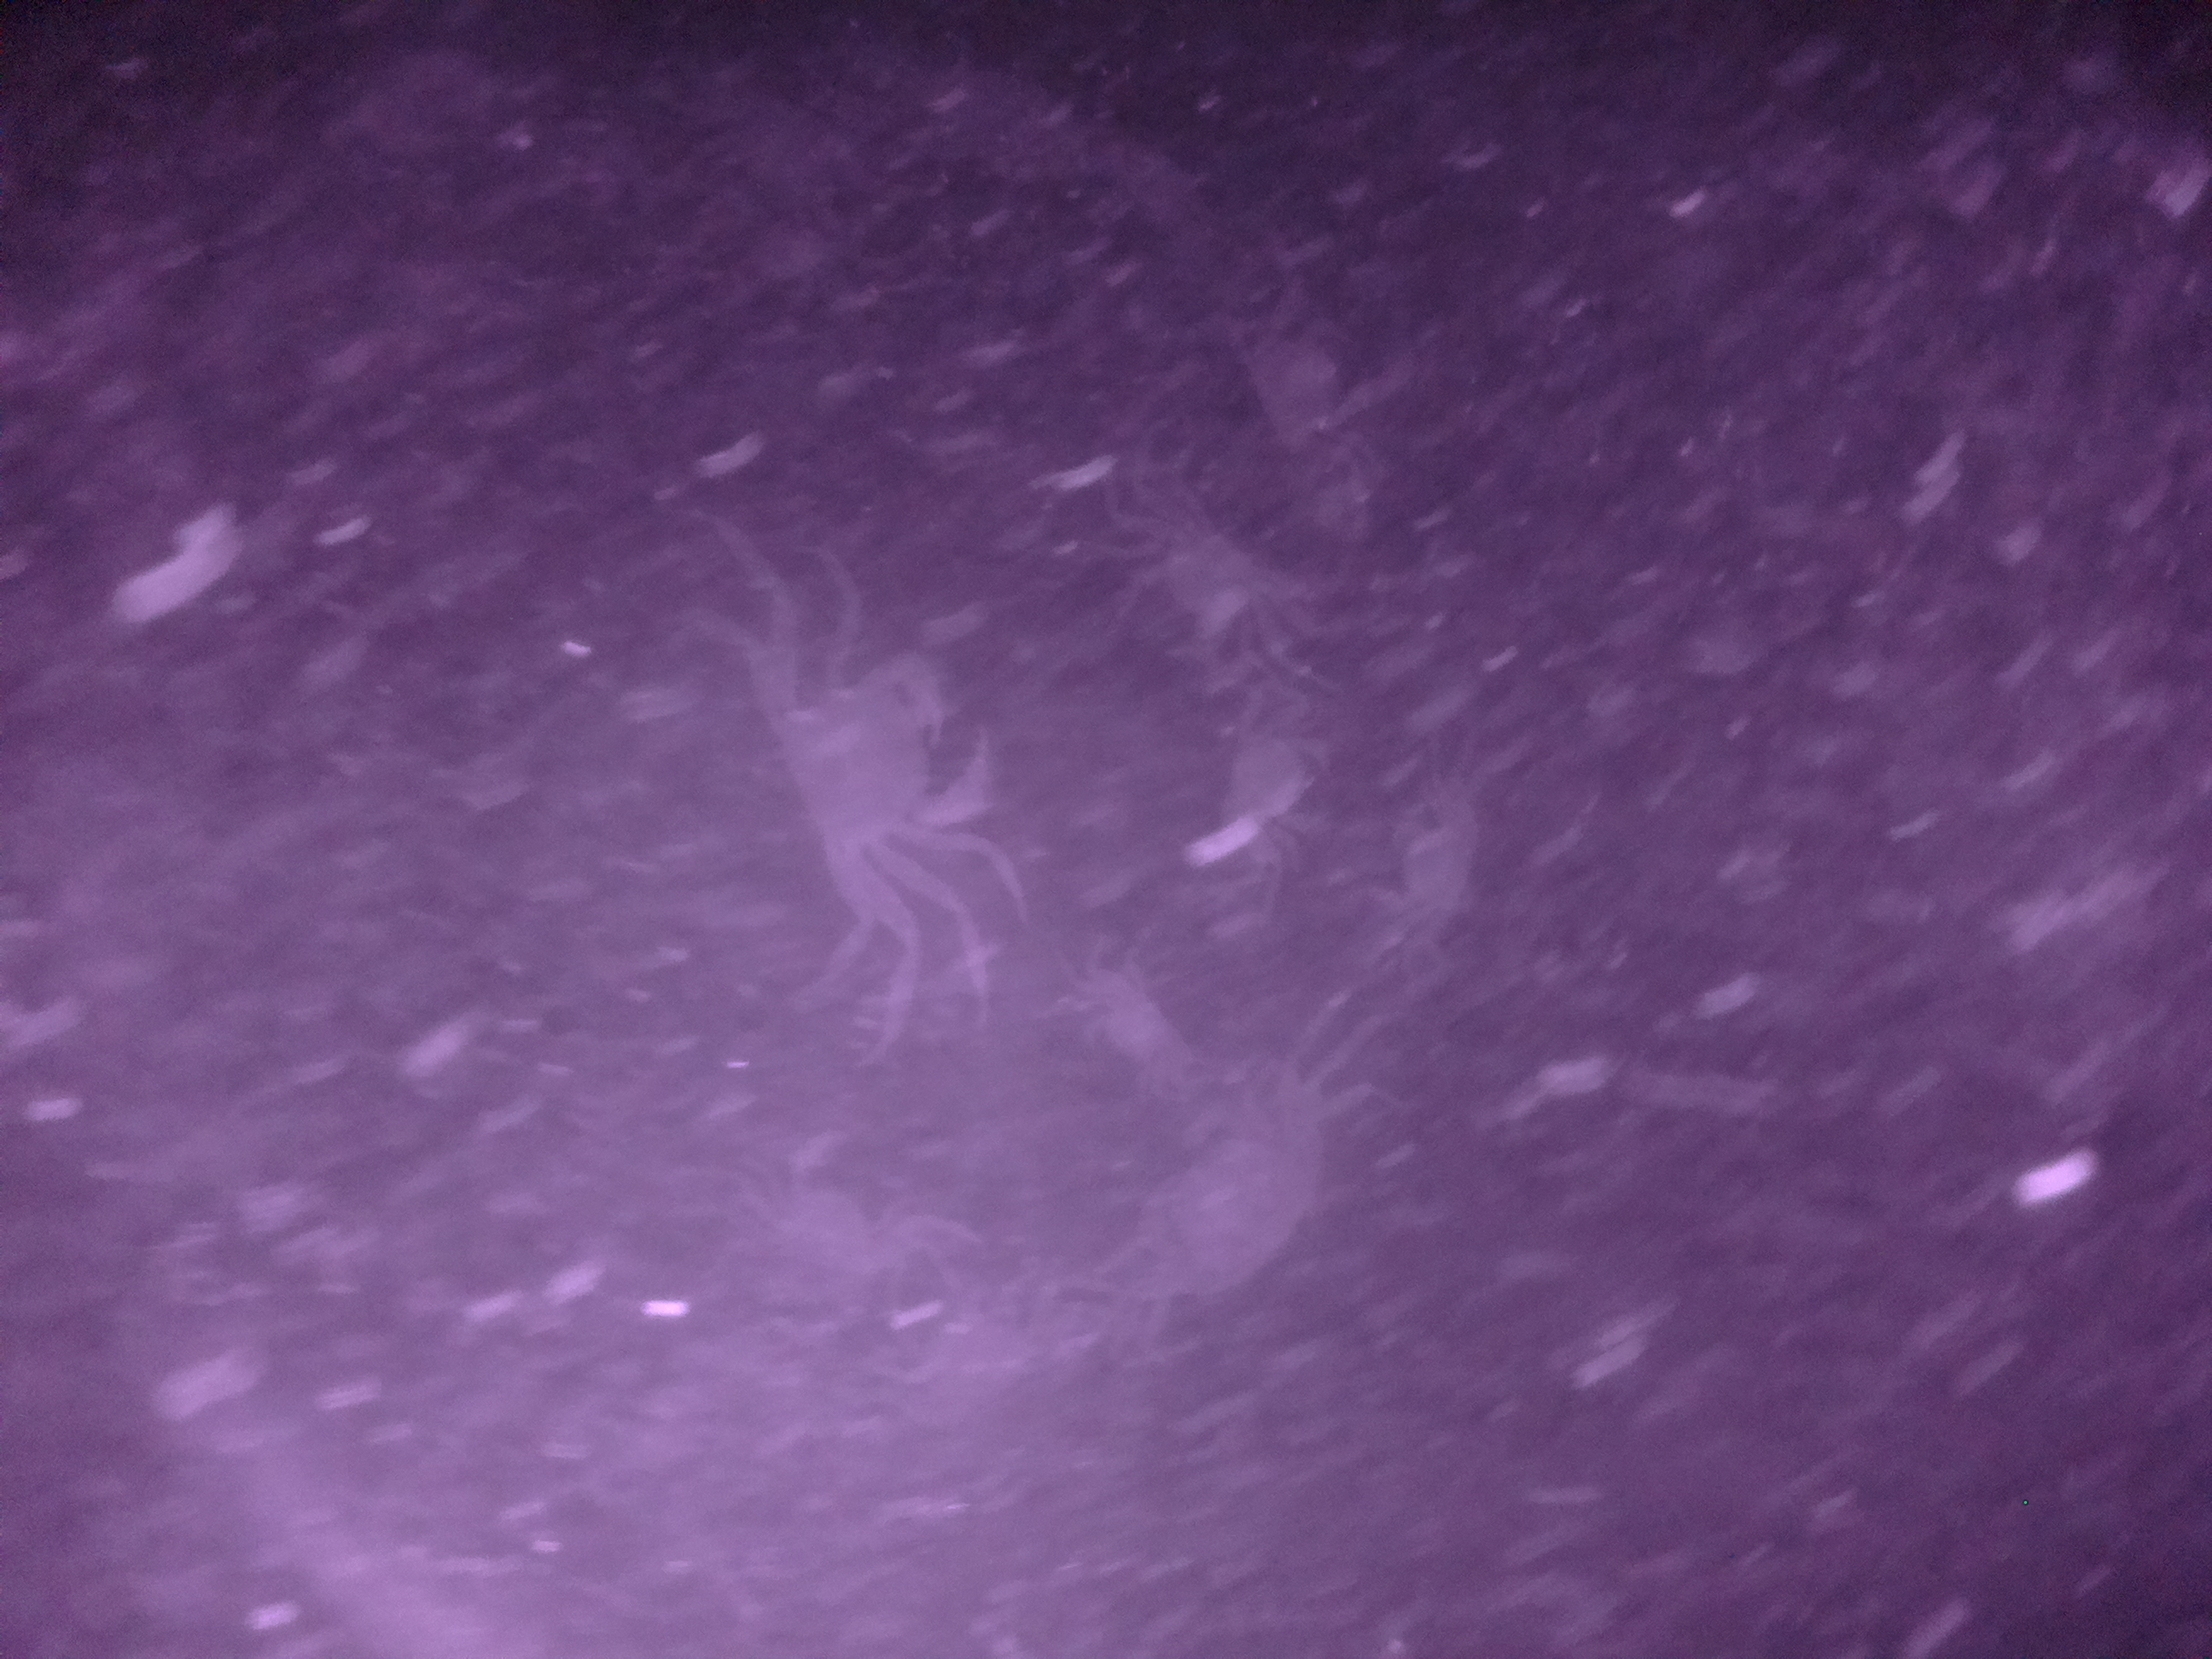Crab: (735, 627, 1019, 904), (723, 1119, 1000, 1321), (1101, 474, 1325, 702), (1200, 694, 1348, 870), (1374, 769, 1501, 957), (1066, 936, 1195, 1119)
